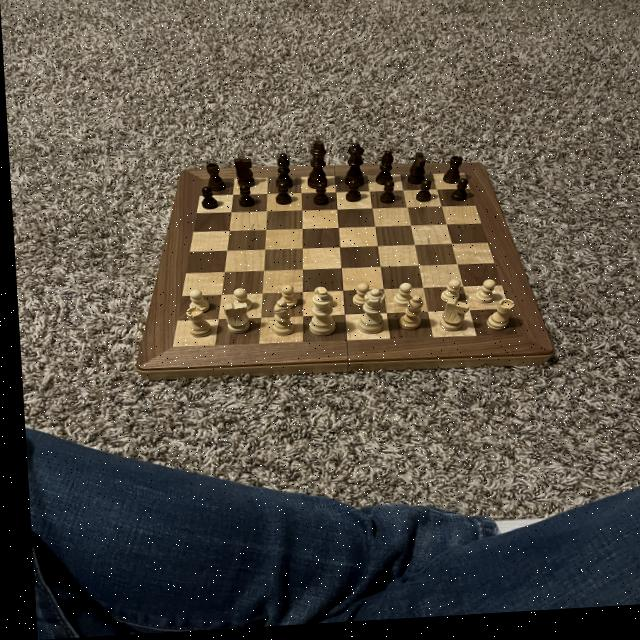bishop: (371, 151, 393, 191), (271, 155, 292, 192)
black-bishop: (301, 142, 329, 195)
black-king: (402, 155, 426, 191), (232, 160, 255, 193)
black-knight: (446, 182, 469, 210), (374, 185, 397, 210), (269, 183, 291, 209), (411, 183, 432, 209), (197, 188, 218, 213), (340, 182, 360, 208), (309, 185, 328, 210), (236, 188, 254, 211)
black-pawn: (340, 146, 365, 194)
black-queen: (201, 165, 227, 195), (439, 160, 462, 191)
black-rook: (392, 297, 422, 337), (266, 301, 291, 340)
white-bishop: (304, 291, 334, 341)
white-king: (433, 301, 468, 339), (218, 304, 248, 338)
white-knight: (435, 283, 459, 310), (307, 288, 330, 316), (226, 291, 252, 315), (348, 285, 370, 313), (182, 291, 207, 315), (273, 288, 295, 314), (470, 285, 492, 310), (390, 287, 411, 312)
white-pawn: (351, 291, 384, 341)
white-queen: (479, 304, 514, 337), (181, 307, 210, 341)
